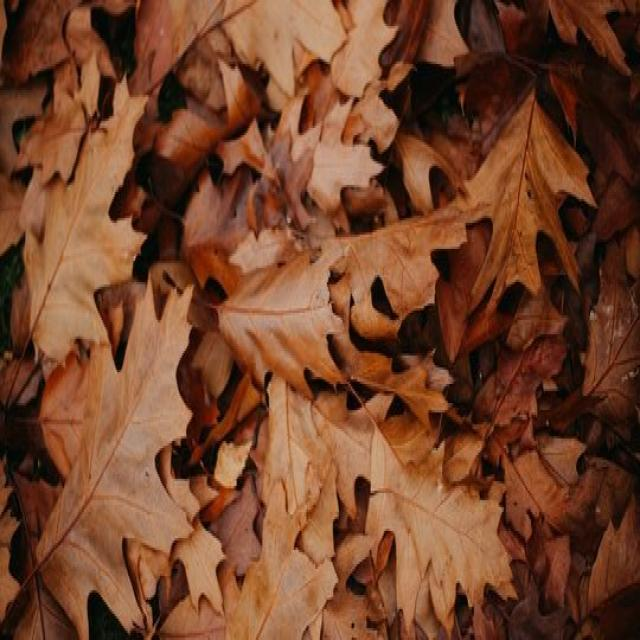Organik: (39, 269, 180, 622), (451, 79, 603, 287), (480, 330, 590, 604), (358, 411, 499, 613), (27, 87, 144, 327), (256, 361, 449, 498), (312, 196, 486, 336), (227, 469, 331, 640), (278, 66, 423, 176), (129, 0, 349, 71), (218, 253, 343, 377), (0, 435, 72, 640), (577, 268, 640, 457), (571, 472, 640, 628), (159, 439, 222, 601), (332, 0, 472, 71), (6, 0, 132, 72), (23, 53, 100, 164), (184, 146, 280, 234), (37, 336, 100, 466), (160, 64, 260, 140), (538, 0, 640, 63), (216, 444, 252, 492)
